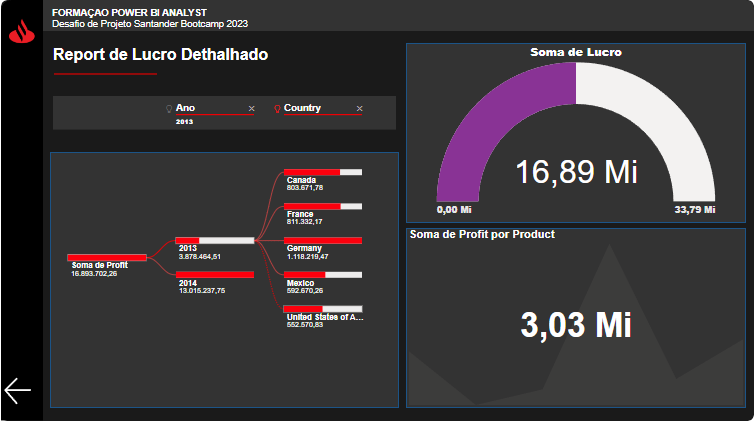

Layout of this report page (visuals, bound fields, positions):
{"tool":"powerbi","page":{"name":"Página 2","canvas":[1280,720],"ordinal":1},"visuals":[{"type":"shape","box":[11.7,8.3,1255,701.7],"z":0},{"type":"shape","box":[100.1,125,171.4,13.3],"z":0,"group":"g1"},{"type":"textbox","box":[93.3,80,398.3,43.4],"z":1000,"group":"g1"},{"type":"shape","box":[11.4,8.6,70,701.4],"z":1000},{"type":"image","box":[10,33.3,71.7,53.3],"z":2000},{"type":"shape","box":[81.7,8.3,1185,51.7],"z":3000},{"type":"textbox","box":[92.2,17.3,439.2,51.8],"z":3001},{"type":"group","id":"g1","title":"Title Report","box":[93.3,80,398.3,58.3],"z":3002},{"type":"shape","box":[93.3,261.7,581.7,426.7],"z":3003},{"type":"decompositionTreeVisual","fields":{"Analyze":["Sum(financials.Profit)"],"ExplainBy":["financials.Date.Variation.Hierarquia de datas.Ano","financials.Country"]},"box":[93.3,163.3,581.7,525],"z":3004},{"type":"shape","box":[686.7,388.3,566.7,300],"z":3005},{"type":"shape","box":[686.7,80,566.7,300],"z":3006},{"type":"gauge","fields":{"Y":["Sum(financials.Profit)"]},"box":[686.7,80,566.7,300],"z":3007},{"type":"kpi","fields":{"Indicator":["Sum(financials.Profit)"],"TrendLine":["financials.Product"]},"box":[686.7,388.3,566.7,300],"z":3008},{"type":"actionButton","box":[11.7,631.7,71.7,56.7],"z":3010}]}

Visuals, with their boxes in screenshot pixels (x1, y1, x2, y2), scaled from the page's 1280x720 canvas onto the 756x422 screenshot:
shape: box=[7, 5, 748, 416]
shape: box=[59, 73, 160, 81]
textbox: box=[55, 47, 290, 72]
shape: box=[7, 5, 48, 416]
image: box=[6, 20, 48, 51]
shape: box=[48, 5, 748, 35]
textbox: box=[54, 10, 314, 41]
"Title Report" group: box=[55, 47, 290, 81]
shape: box=[55, 153, 399, 403]
decompositionTreeVisual - Sum(financials.Profit) x financials.Date.Variation.Hierarquia de datas.Ano: box=[55, 96, 399, 403]
shape: box=[406, 228, 740, 403]
shape: box=[406, 47, 740, 223]
gauge - Sum(financials.Profit): box=[406, 47, 740, 223]
kpi - Sum(financials.Profit) x financials.Product: box=[406, 228, 740, 403]
actionButton: box=[7, 370, 49, 403]
